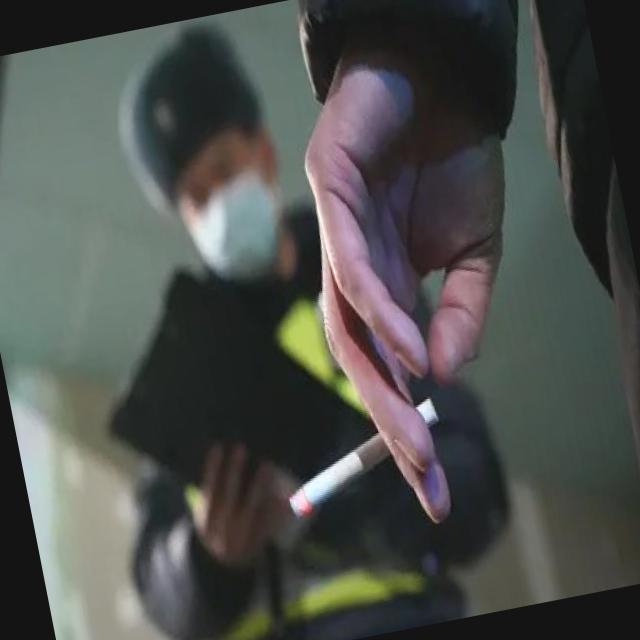cigarette: (270, 391, 455, 522)
